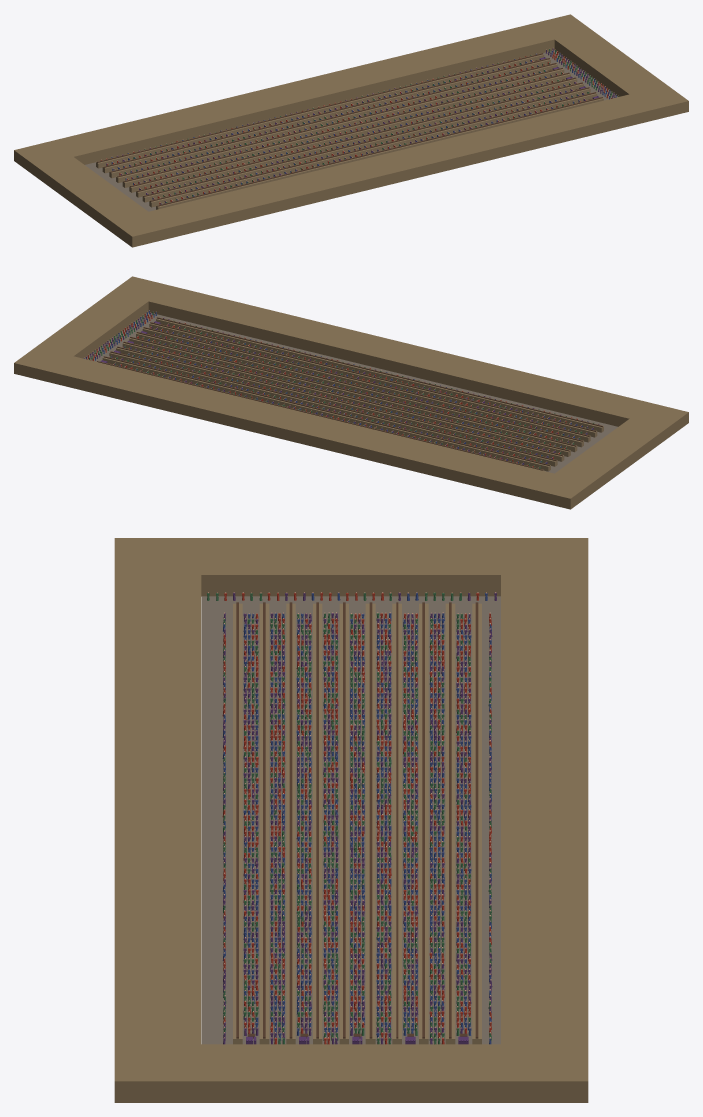
The model's file is terracotta-army.glb.
The picture shows the model from 3 angles, top to bottom: view 1: azimuth 30°, elevation 25°; view 2: azimuth 150°, elevation 25°; view 3: azimuth 270°, elevation 25°; orthographic projection. The views are drawn at different scales.
Visible parts, largest first — view 1: tca-earth, tca-wall, tca-wood, tca-skin, tca-paintD, tca-paintC, tca-paintB, tca-paintA, tca-floor; view 2: tca-earth, tca-wall, tca-wood, tca-skin, tca-floor, tca-paintB, tca-paintD, tca-paintA, tca-paintC; view 3: tca-earth, tca-floor, tca-wall, tca-wood, tca-paintB, tca-paintD, tca-paintA, tca-paintC, tca-skin.
Boxes of the visible parts, left/top/right/bottom form: tca-earth: left=14, top=14, right=688, bottom=247; tca-wall: left=96, top=53, right=603, bottom=209; tca-wood: left=97, top=53, right=602, bottom=206; tca-skin: left=101, top=48, right=618, bottom=203; tca-paintD: left=106, top=48, right=615, bottom=203; tca-paintC: left=111, top=51, right=616, bottom=204; tca-paintB: left=108, top=49, right=618, bottom=202; tca-paintA: left=100, top=51, right=612, bottom=204; tca-floor: left=85, top=50, right=617, bottom=211; tca-earth: left=14, top=276, right=688, bottom=509; tca-wall: left=99, top=317, right=603, bottom=471; tca-wood: left=97, top=317, right=602, bottom=470; tca-skin: left=84, top=310, right=598, bottom=468; tca-floor: left=85, top=312, right=617, bottom=473; tca-paintB: left=89, top=311, right=594, bottom=468; tca-paintD: left=86, top=313, right=599, bottom=464; tca-paintA: left=87, top=314, right=585, bottom=467; tca-paintC: left=84, top=310, right=592, bottom=464; tca-earth: left=114, top=538, right=588, bottom=1102; tca-floor: left=201, top=596, right=500, bottom=1044; tca-wall: left=233, top=603, right=481, bottom=1044; tca-wood: left=236, top=602, right=478, bottom=1038; tca-paintB: left=207, top=592, right=491, bottom=1044; tca-paintD: left=223, top=592, right=496, bottom=1044; tca-paintA: left=222, top=592, right=491, bottom=1044; tca-paintC: left=222, top=592, right=491, bottom=1044; tca-skin: left=208, top=592, right=496, bottom=1038.
Bounding box in the file's own units: 266 × 5.14 × 97.98.
